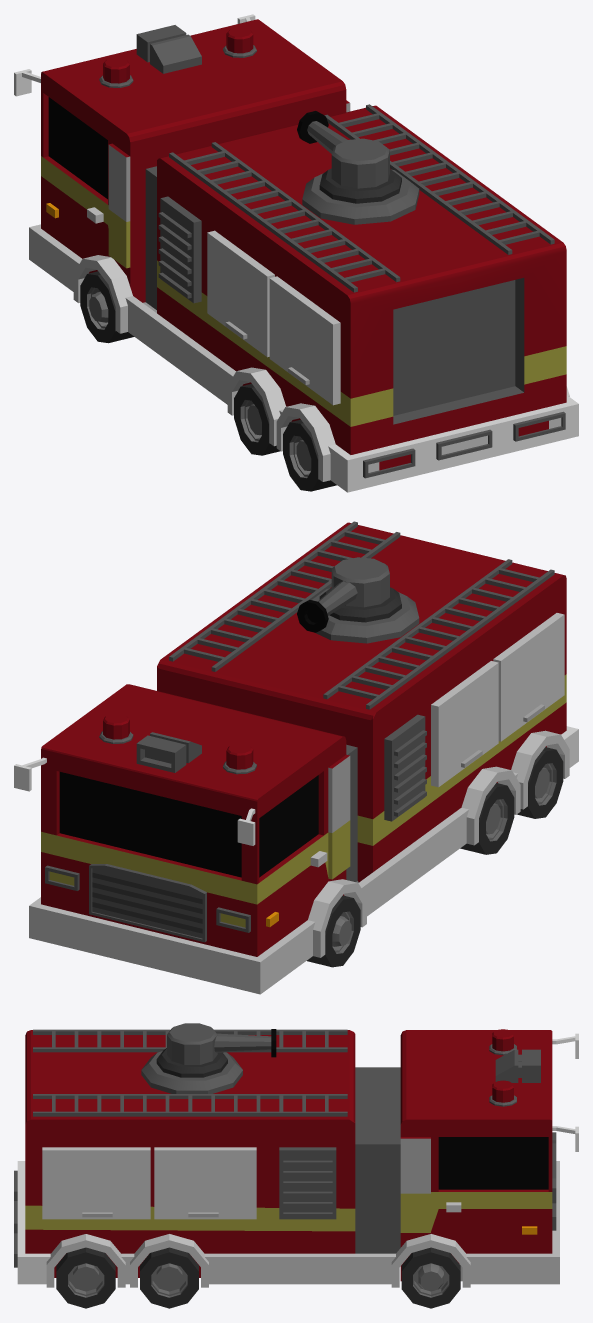
File: Fire_Truck.fbx
3 renders of one model, top to bottom at view 1: azimuth 30°, elevation 25°; view 2: azimuth 150°, elevation 25°; view 3: azimuth 270°, elevation 25°, orthographic. The views are drawn at different scales.
Visible parts, largest first — view 1: Fire_Truck3, Pipe, Tire_Back_1_Left1, Tire_Front_1_Left, Tire_Back_1_Left; view 2: Fire_Truck3, Pipe, Tire_Front_1_Left, Tire_Back_1_Left, Tire_Back_1_Left1; view 3: Fire_Truck3, Pipe, Tire_Back_2_Right, Tire_Front_1_Right, Tire_Back_1_Right.
Part boxes in pixels (x1=…): Fire_Truck3: x1=14, y1=14, x2=578, y2=492; Pipe: x1=297, y1=111, x2=401, y2=203; Tire_Back_1_Left1: x1=283, y1=419, x2=336, y2=491; Tire_Front_1_Left: x1=80, y1=271, x2=134, y2=343; Tire_Back_1_Left: x1=234, y1=383, x2=279, y2=455; Fire_Truck3: x1=14, y1=521, x2=578, y2=994; Pipe: x1=297, y1=557, x2=401, y2=632; Tire_Front_1_Left: x1=307, y1=895, x2=360, y2=967; Tire_Back_1_Left: x1=460, y1=783, x2=514, y2=854; Tire_Back_1_Left1: x1=517, y1=747, x2=563, y2=818; Fire_Truck3: x1=14, y1=1029, x2=578, y2=1287; Pipe: x1=156, y1=1023, x2=276, y2=1077; Tire_Back_2_Right: x1=56, y1=1247, x2=115, y2=1308; Tire_Front_1_Right: x1=401, y1=1247, x2=460, y2=1308; Tire_Back_1_Right: x1=140, y1=1247, x2=198, y2=1308.
Bounding box in the file's own units: 324 × 330 × 745.
